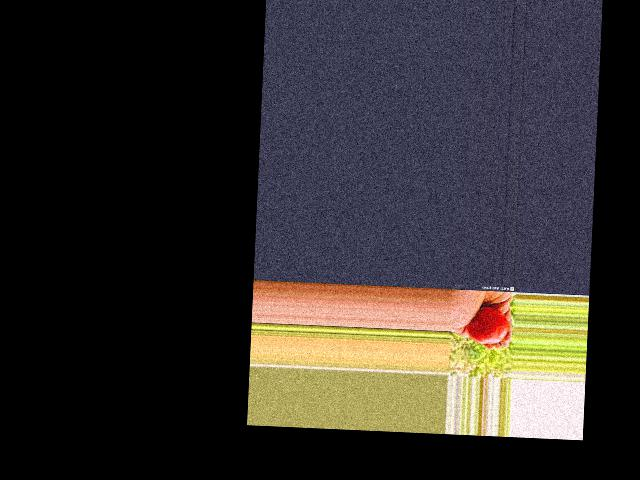tomato: (466, 306, 508, 344)
